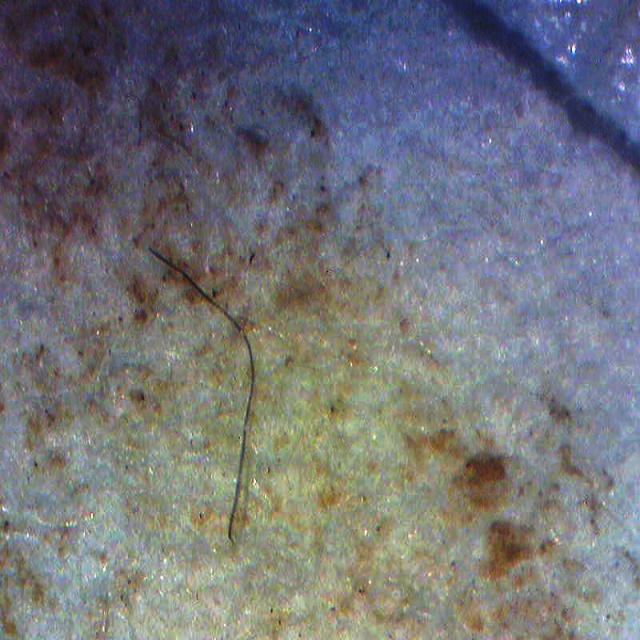microplastic: (149, 248, 254, 539)
